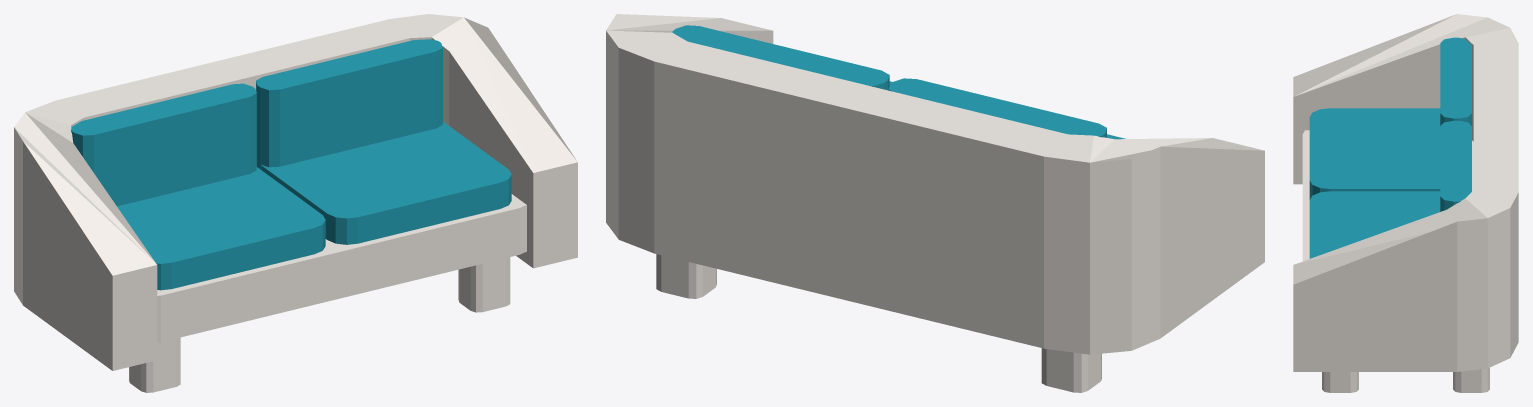
Rendered from seating_pod.glb.
3 renders of one model, left to right at view 1: azimuth 30°, elevation 25°; view 2: azimuth 150°, elevation 25°; view 3: azimuth 270°, elevation 25°, orthographic. The views are drawn at different scales.
Visible parts, largest first — view 1: frutiger_aero_seating_pod; view 2: frutiger_aero_seating_pod; view 3: frutiger_aero_seating_pod.
Boxes of the visible parts, x1,y1,x2,y2 form: frutiger_aero_seating_pod: (14,14,577,392); frutiger_aero_seating_pod: (606,14,1264,392); frutiger_aero_seating_pod: (1293,14,1518,392).
Bounding box in the file's own units: 2.4 × 1.04 × 1.1.
Materials: 2 (2 with a texture image).
